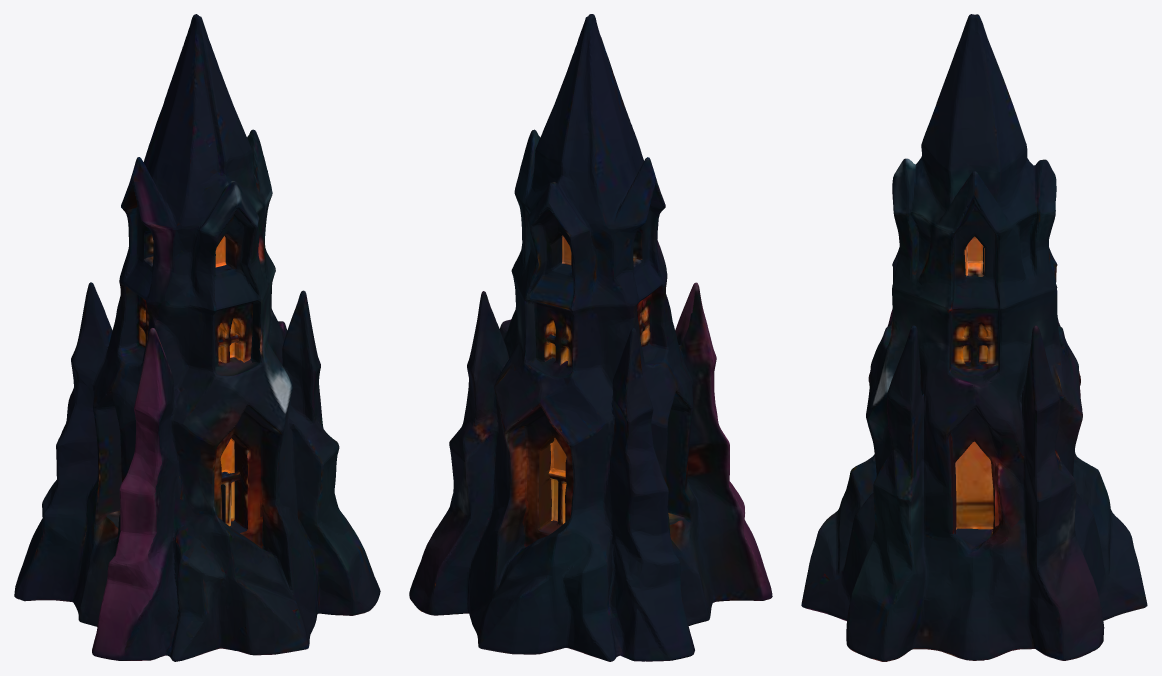
File: CAPITAL_UMBRAL.glb
3 views of the same model, side by side, from view 1: azimuth 30°, elevation 25°; view 2: azimuth 150°, elevation 25°; view 3: azimuth 270°, elevation 25° (orthographic).
Parts seen in each view (by area): view 1: CAPITAL_UMBRAL_512; view 2: CAPITAL_UMBRAL_512; view 3: CAPITAL_UMBRAL_512.
Part boxes in pixels (x1,y1,x2,y2): CAPITAL_UMBRAL_512: [14, 14, 380, 661]; CAPITAL_UMBRAL_512: [409, 14, 772, 661]; CAPITAL_UMBRAL_512: [801, 14, 1147, 661].
Size of the model in its own units: 1.02 by 1.99 by 1.08.
Materials: 1 (1 with a texture image).
